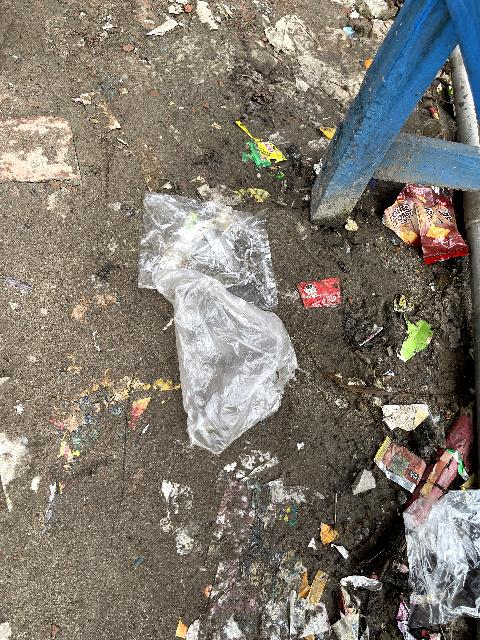polythene: (128, 189, 315, 433)
